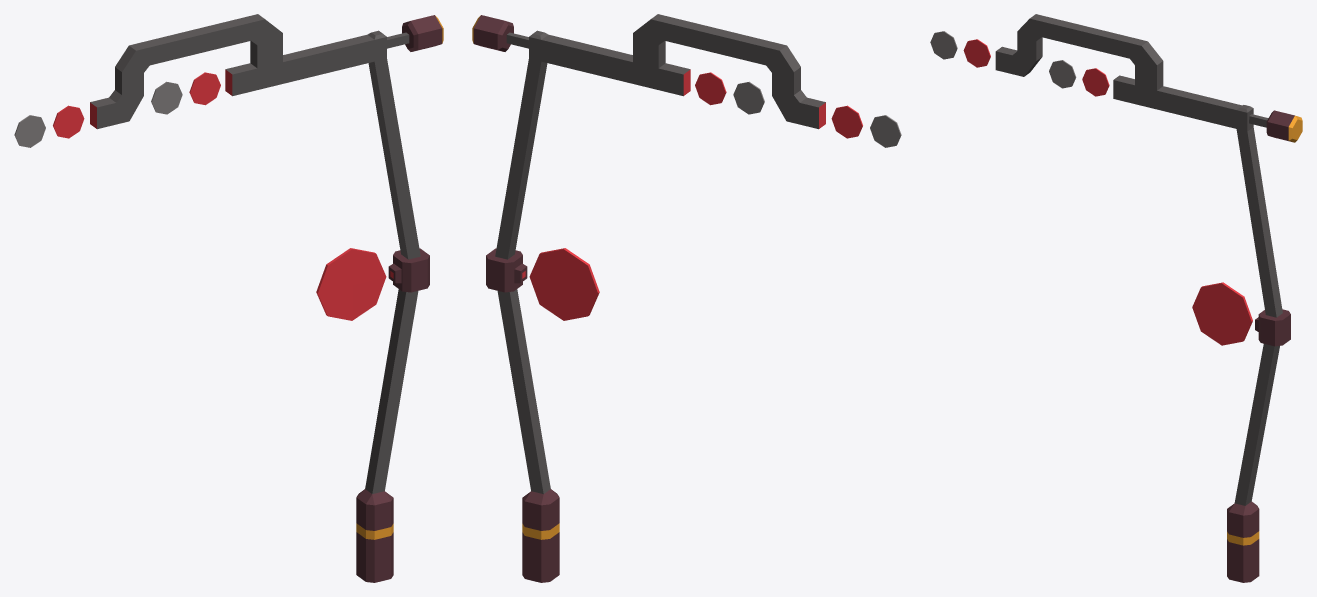
File: scifi-traffic-lights-long-b.fbx
3 renders of one model, left to right at view 1: azimuth 30°, elevation 25°; view 2: azimuth 150°, elevation 25°; view 3: azimuth 330°, elevation 25°, orthographic. The views are drawn at different scales.
Parts seen in each view (by area): view 1: scifi-traffic-lights-long-b; view 2: scifi-traffic-lights-long-b; view 3: scifi-traffic-lights-long-b.
Part boxes in pixels (box(x1,y1,x2,y2)): scifi-traffic-lights-long-b: box(14, 14, 443, 582); scifi-traffic-lights-long-b: box(472, 14, 901, 582); scifi-traffic-lights-long-b: box(930, 14, 1302, 582).
Bounding box in the file's own units: 7.17 × 9.5 × 0.4698.
